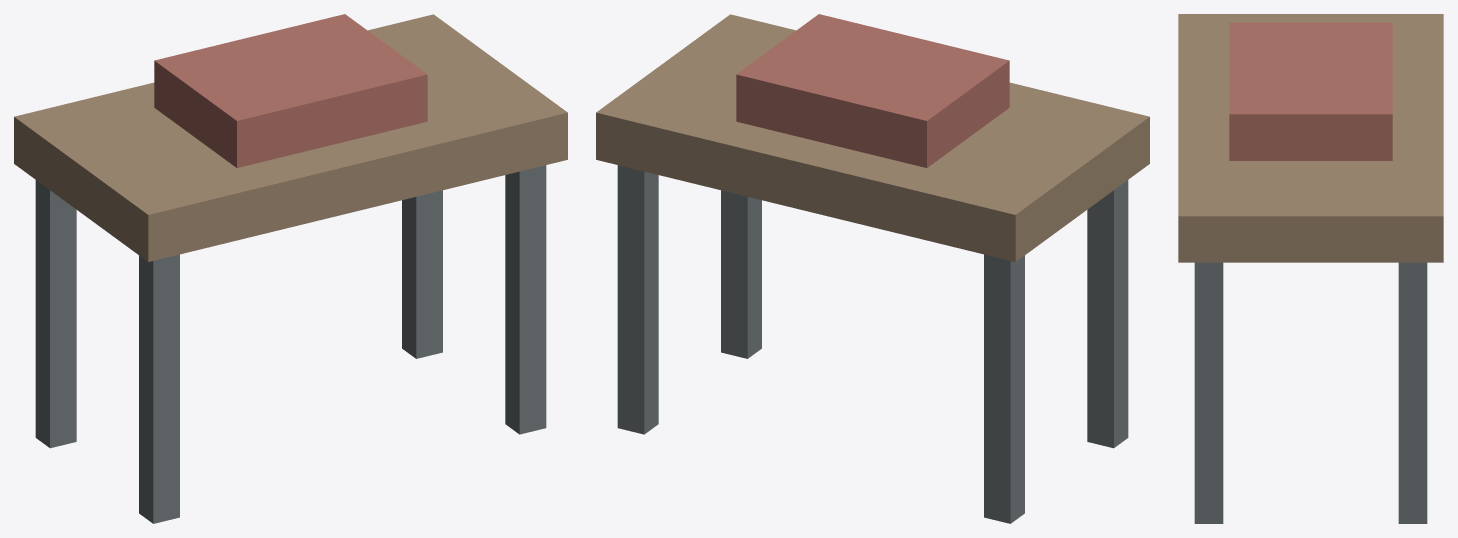
The model's file is iz2_food_fermentation_crock.glb.
3 views of the same model, side by side, from view 1: azimuth 30°, elevation 25°; view 2: azimuth 150°, elevation 25°; view 3: azimuth 270°, elevation 25° (orthographic).
Visible parts, largest first — view 1: body; view 2: body; view 3: body.
Part boxes in pixels (bbox=[...]): body: bbox=[14, 14, 567, 523]; body: bbox=[596, 14, 1149, 523]; body: bbox=[1178, 14, 1443, 523].
Bounding box in the file's own units: 1.13 × 0.9439 × 0.6289.
